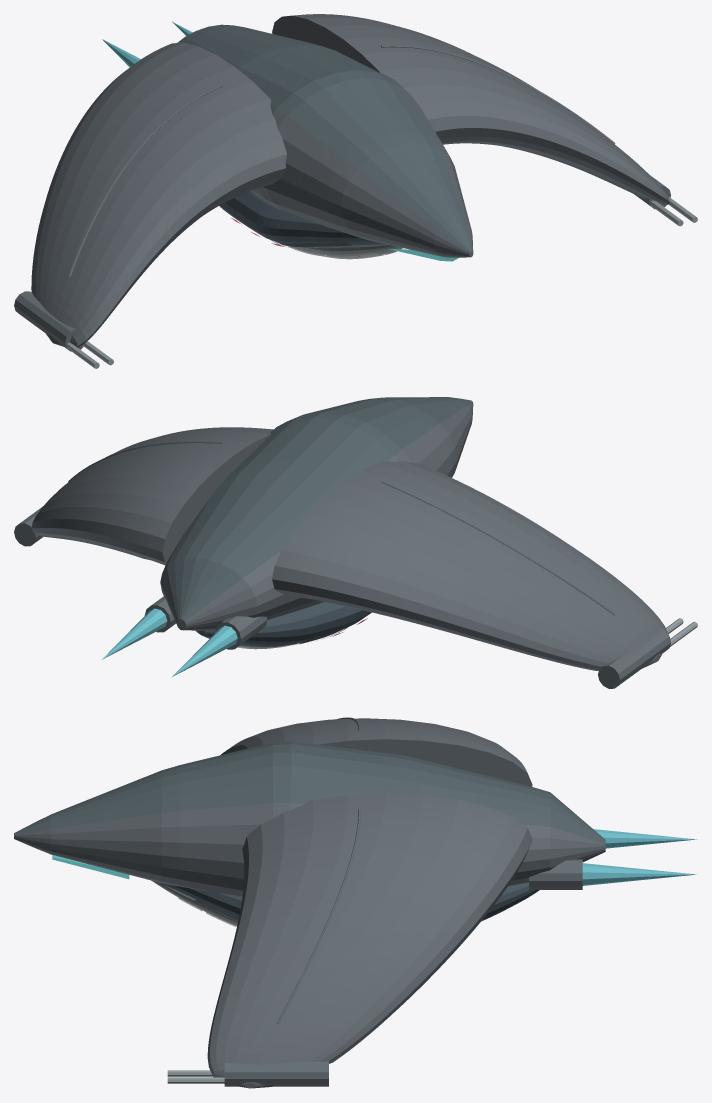
The model's file is ambwe_black_flight.glb.
The picture shows the model from 3 angles, top to bottom: view 1: azimuth 30°, elevation 25°; view 2: azimuth 150°, elevation 25°; view 3: azimuth 270°, elevation 25°; orthographic projection. The views are drawn at different scales.
Parts seen in each view (by area): view 1: material_0, material_1, material_2, material_9, material_11, material_3, material_5; view 2: material_0, material_1, material_9, material_2, material_12, material_10; view 3: material_0, material_1, material_9, material_12, material_2, material_11.
Part boxes in pixels (left/top/right/bottom): material_0: left=31, top=14, right=669, bottom=347; material_1: left=177, top=24, right=472, bottom=252; material_2: left=220, top=191, right=386, bottom=245; material_9: left=14, top=45, right=670, bottom=351; material_11: left=66, top=197, right=697, bottom=368; material_3: left=291, top=244, right=403, bottom=257; material_5: left=219, top=205, right=351, bottom=246; material_0: left=31, top=402, right=668, bottom=670; material_1: left=174, top=397, right=472, bottom=621; material_9: left=14, top=441, right=670, bottom=688; material_2: left=195, top=602, right=370, bottom=646; material_12: left=102, top=608, right=237, bottom=676; material_10: left=35, top=534, right=598, bottom=670; material_0: left=14, top=718, right=605, bottom=1088; material_1: left=14, top=741, right=605, bottom=843; material_9: left=224, top=717, right=582, bottom=1086; material_12: left=582, top=829, right=697, bottom=885; material_2: left=155, top=881, right=539, bottom=921; material_11: left=167, top=1070, right=224, bottom=1083.
Size of the model in its own units: 4.65 by 1.35 by 4.45.
